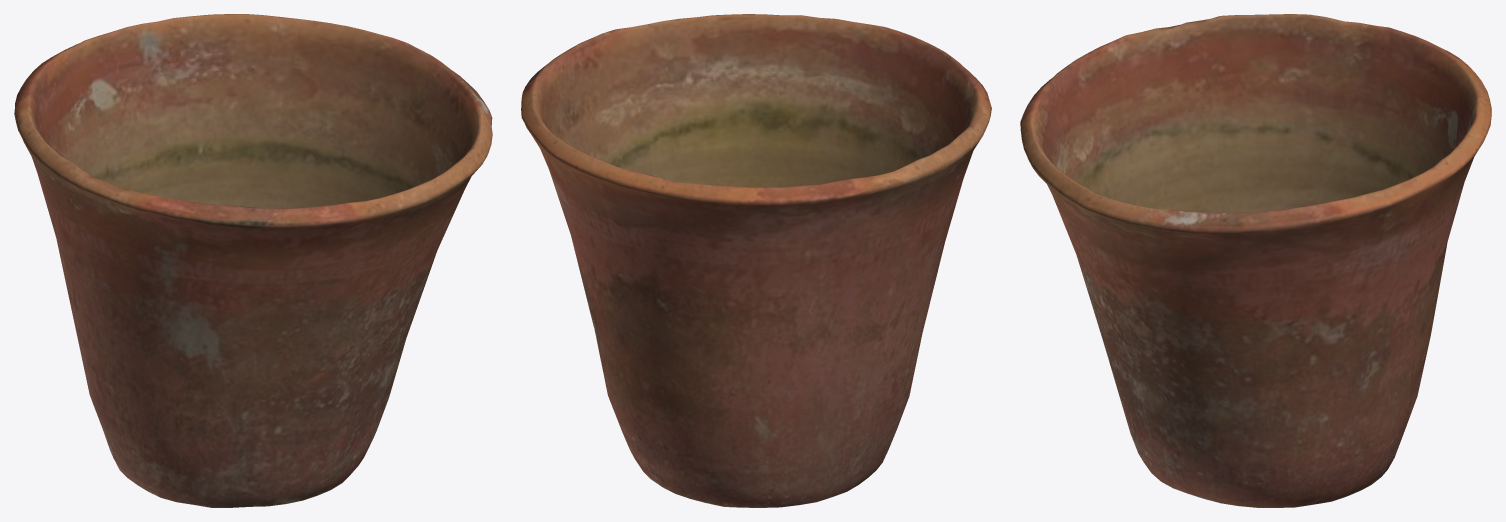
Rendered from planter_pot_clay.gltf.
3 renders of one model, left to right at view 1: azimuth 30°, elevation 25°; view 2: azimuth 150°, elevation 25°; view 3: azimuth 270°, elevation 25°, orthographic.
Parts seen in each view (by area): view 1: planter_pot_clay; view 2: planter_pot_clay; view 3: planter_pot_clay.
Part boxes in pixels (x1,y1,x2,y2): planter_pot_clay: [14, 14, 492, 507]; planter_pot_clay: [521, 14, 991, 507]; planter_pot_clay: [1020, 14, 1491, 507].
Size of the model in its own units: 0.266 by 0.2219 by 0.2635.
Materials: 1 (1 with a texture image).
